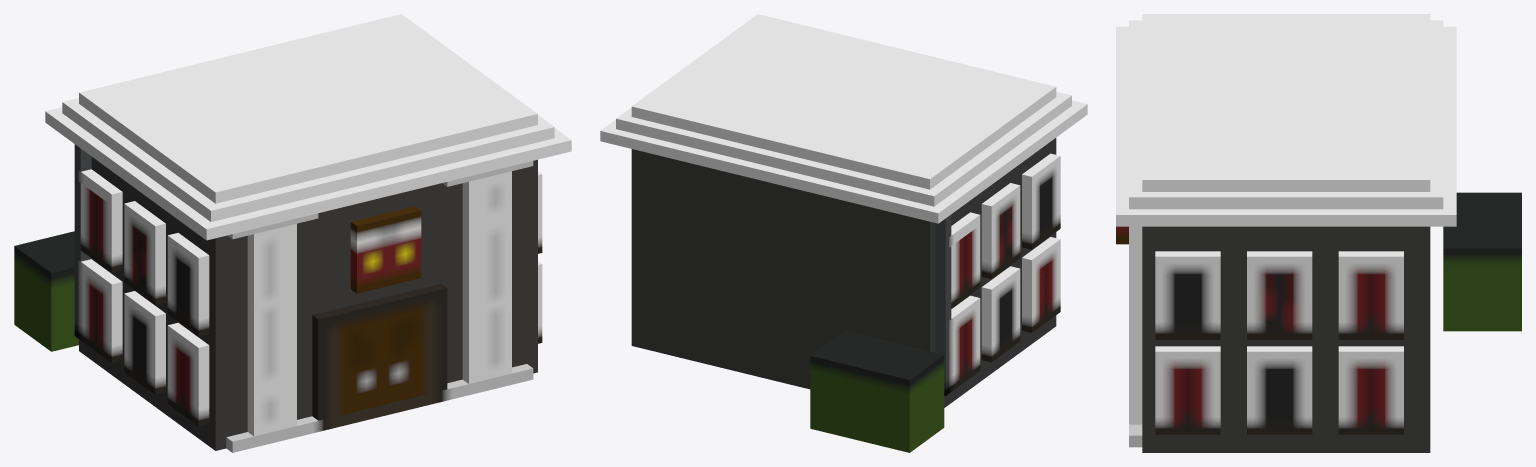
The model's file is Hotel3.dae.
The picture shows the model from 3 angles, left to right: view 1: azimuth 30°, elevation 25°; view 2: azimuth 150°, elevation 25°; view 3: azimuth 270°, elevation 25°; orthographic projection. The views are drawn at different scales.
Visible parts, largest first — view 1: Hotel3; view 2: Hotel3; view 3: Hotel3.
Part boxes in pixels (x1,y1,x2,y2): Hotel3: [14, 14, 571, 452]; Hotel3: [600, 14, 1087, 452]; Hotel3: [1116, 14, 1521, 452].
Bounding box in the file's own units: 34 × 23 × 31.
1 material, 1 textured.
